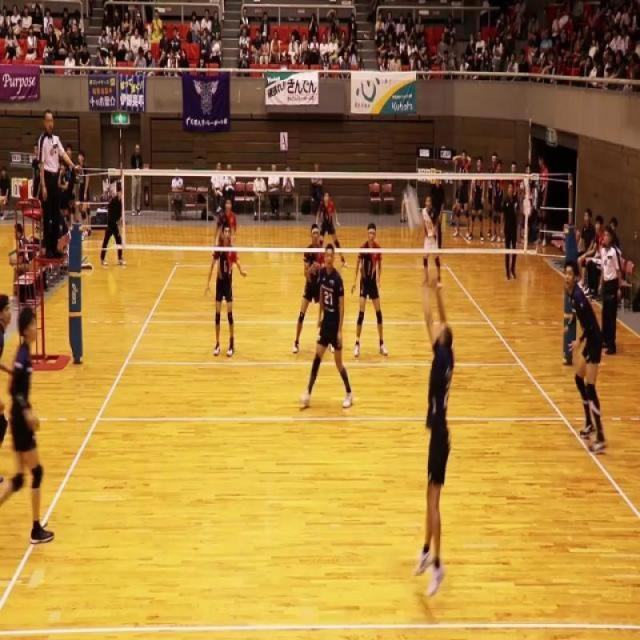volleyball: (402, 184, 425, 234)
